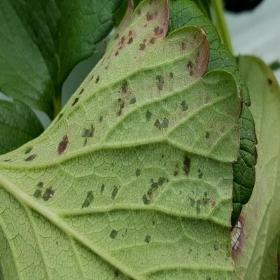Angular Leafspot: (1, 0, 244, 279), (230, 199, 260, 279)
